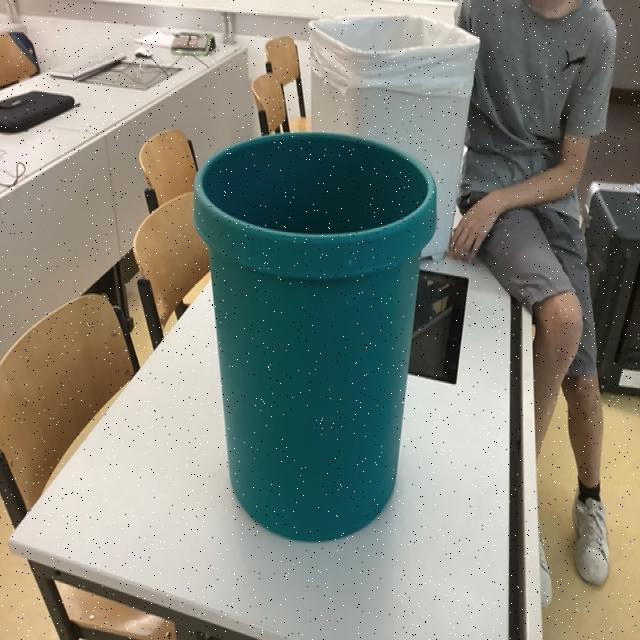garbage container: (165, 92, 444, 572)
